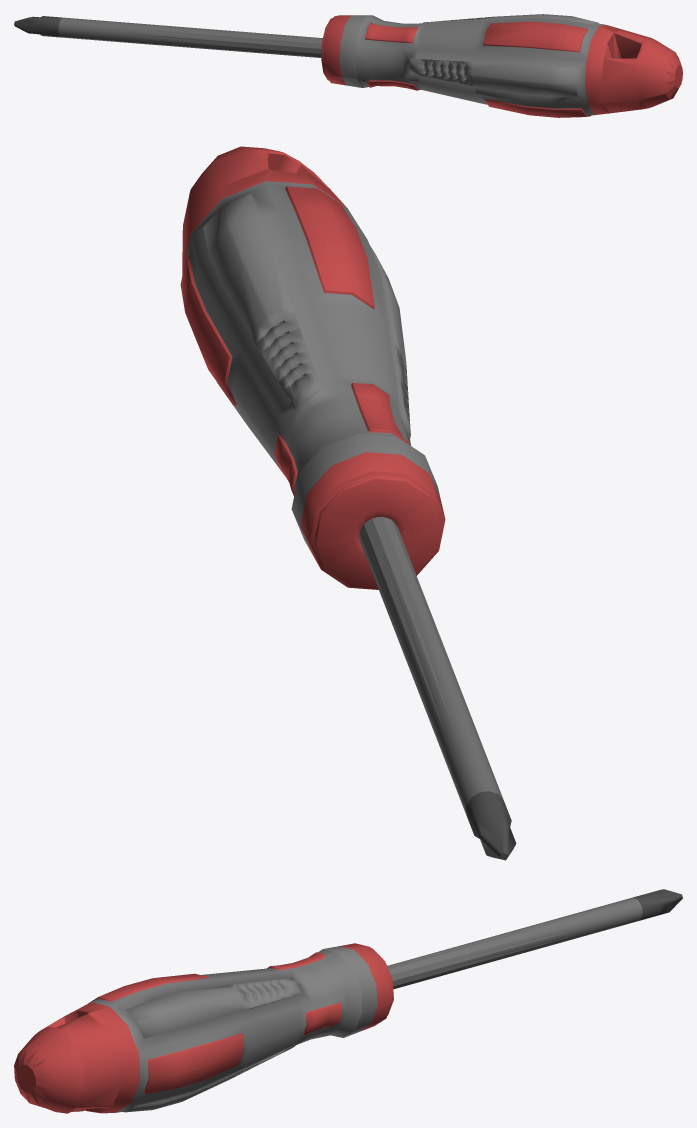
File: screwdriver.fbx
3 views of the same model, one above another, from view 1: azimuth 30°, elevation 25°; view 2: azimuth 150°, elevation 25°; view 3: azimuth 270°, elevation 25° (orthographic). The views are drawn at different scales.
Parts seen in each view (by area): view 1: polySurface1; view 2: polySurface1; view 3: polySurface1.
Boxes of the visible parts, x1,y1,x2,y2 form: polySurface1: (14, 14, 682, 117); polySurface1: (180, 146, 516, 860); polySurface1: (14, 889, 682, 1113).
Size of the model in its own units: 141 by 30.31 by 162.
